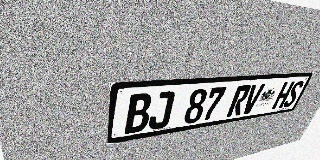7: (200, 87, 227, 122)
8: (182, 88, 210, 125)
B: (124, 93, 153, 134)
H: (271, 81, 295, 110)
J: (147, 91, 176, 130)
R: (226, 85, 252, 117)
S: (282, 80, 305, 108)
V: (240, 84, 265, 115)
